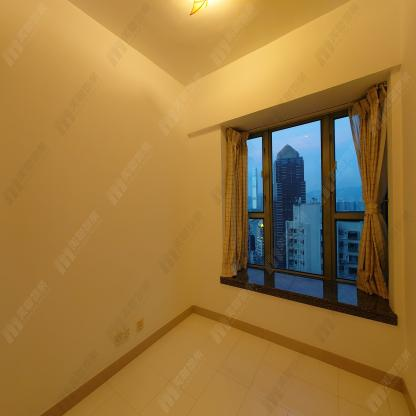Windowsill: (219, 68, 397, 326)
